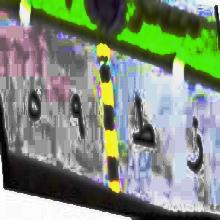5: (23, 80, 48, 131)
9: (67, 92, 89, 143)
Taa: (129, 92, 157, 154)
zay: (185, 107, 205, 184)
